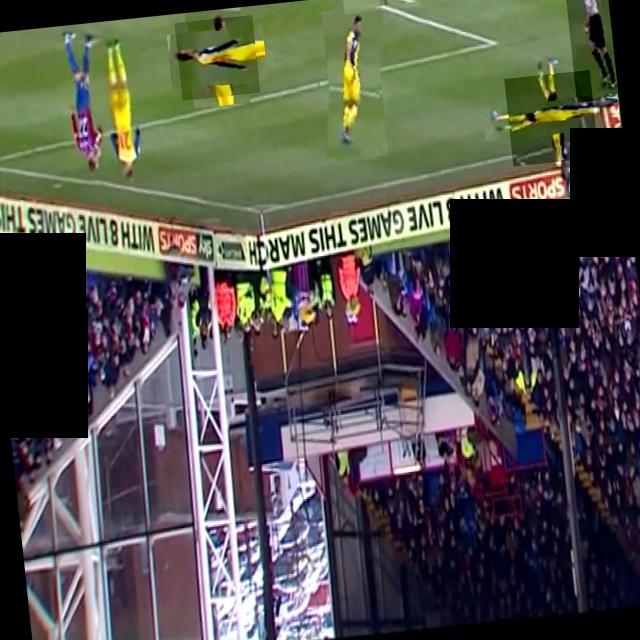referee: (563, 0, 618, 102)
soccer-player: (316, 4, 394, 162), (52, 22, 116, 186), (504, 69, 598, 166), (174, 15, 260, 100), (342, 0, 419, 14)
